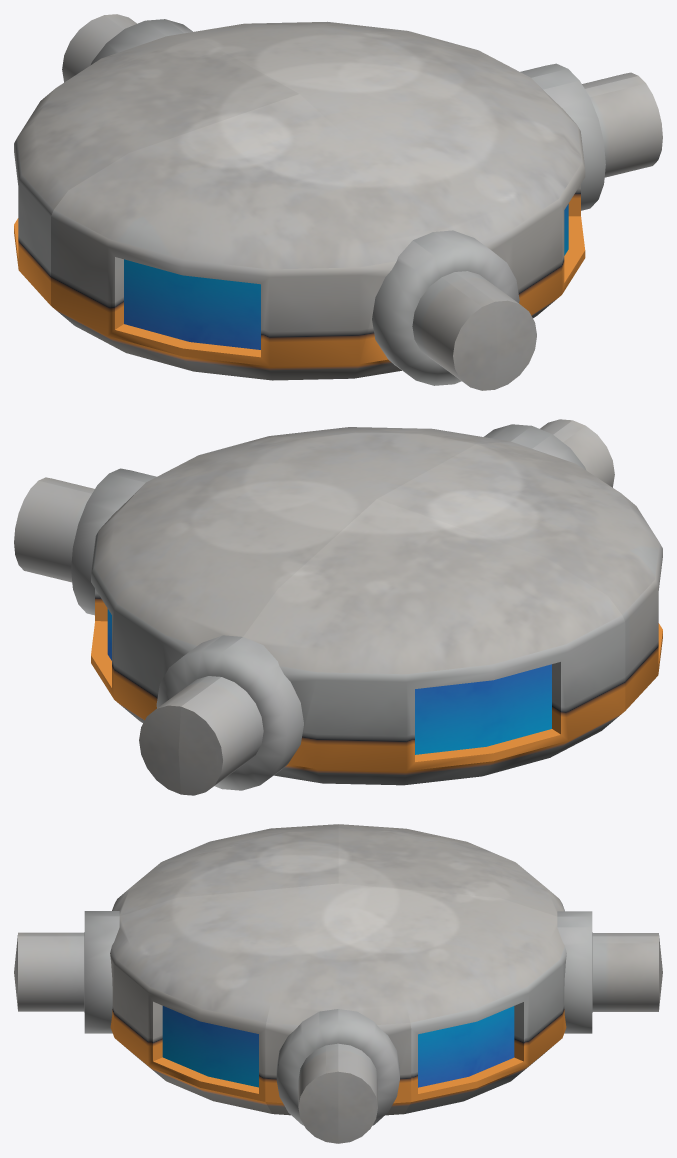
File: Base_Pod_3.fbx
3 renders of one model, top to bottom at view 1: azimuth 30°, elevation 25°; view 2: azimuth 150°, elevation 25°; view 3: azimuth 270°, elevation 25°, orthographic. The views are drawn at different scales.
Visible parts, largest first — view 1: Pod_3; view 2: Pod_3; view 3: Pod_3.
Part boxes in pixels (left/top/right/bottom): Pod_3: left=14, top=14, right=662, bottom=390; Pod_3: left=14, top=419, right=662, bottom=795; Pod_3: left=14, top=824, right=662, bottom=1143.
Bounding box in the file's own units: 61.89 × 17.7 × 71.79.
